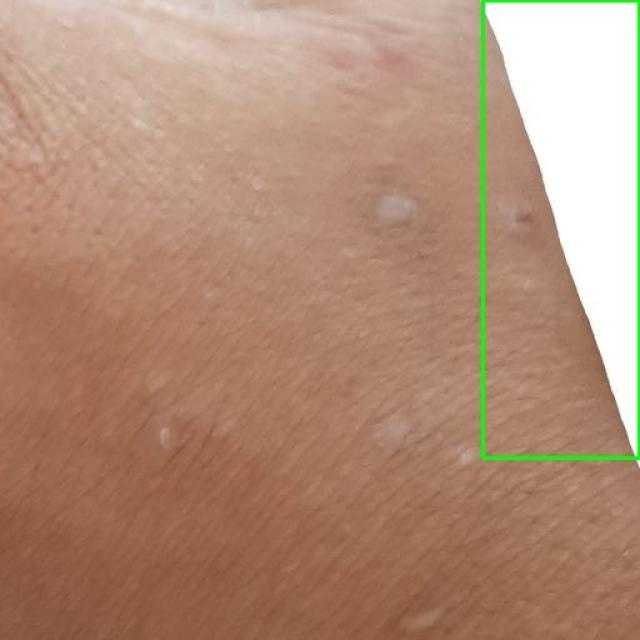Scabies: (482, 0, 639, 458)
